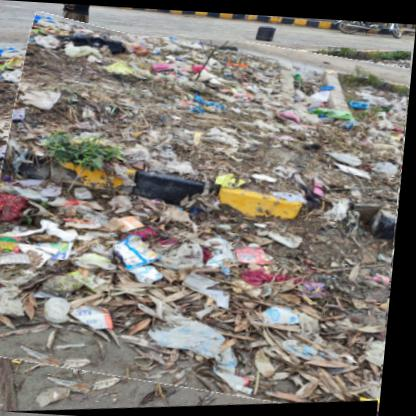Garbage: (1, 28, 414, 416)
